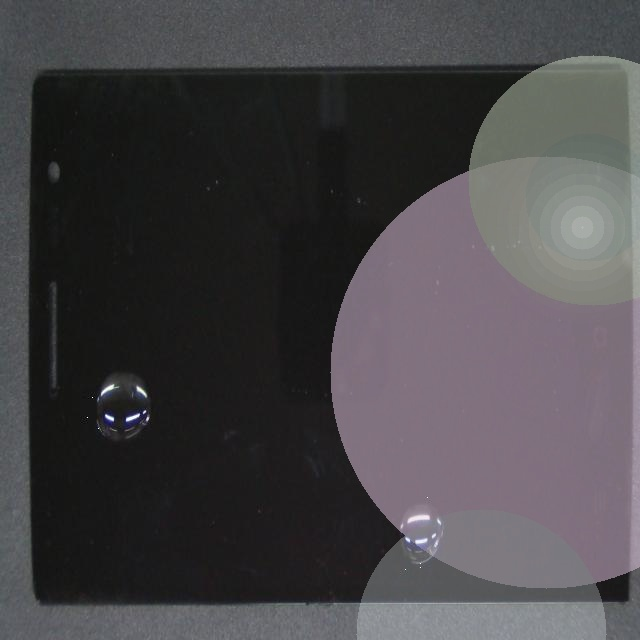oil: (235, 234, 629, 640), (67, 168, 151, 591)
